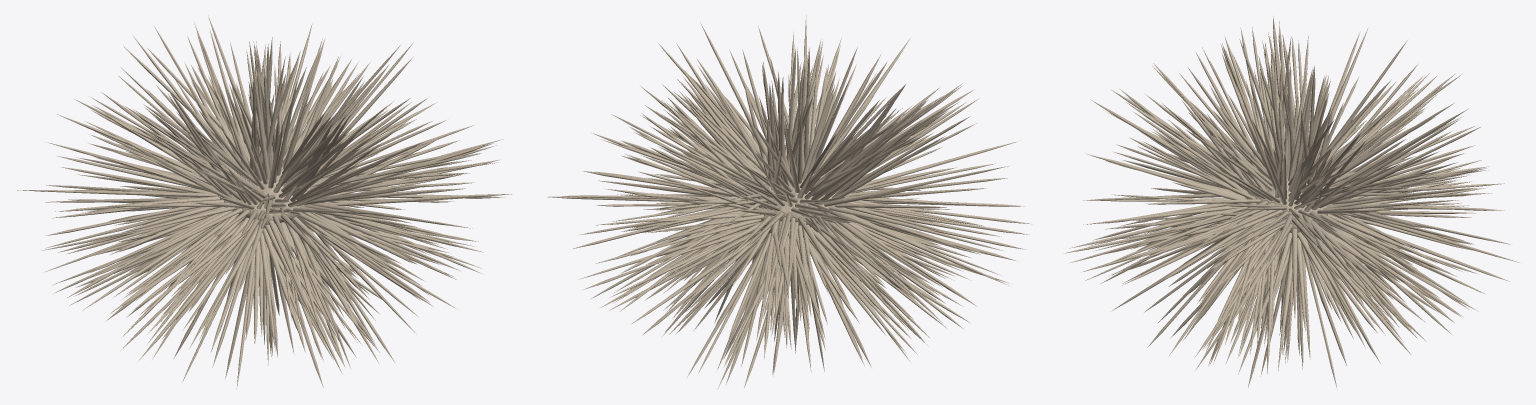
Rendered from 3dcodebench_Urchin_seed0.glb.
The picture shows the model from 3 angles, left to right: view 1: azimuth 30°, elevation 25°; view 2: azimuth 150°, elevation 25°; view 3: azimuth 270°, elevation 25°; orthographic projection. The views are drawn at different scales.
Visible parts, largest first — view 1: object; view 2: object; view 3: object.
Part boxes in pixels (box(x1,y1,x2,y2)): object: box(17, 15, 511, 389); object: box(548, 14, 1032, 389); object: box(1063, 16, 1519, 388).
Size of the model in its own units: 1.99 by 1.53 by 1.97.
